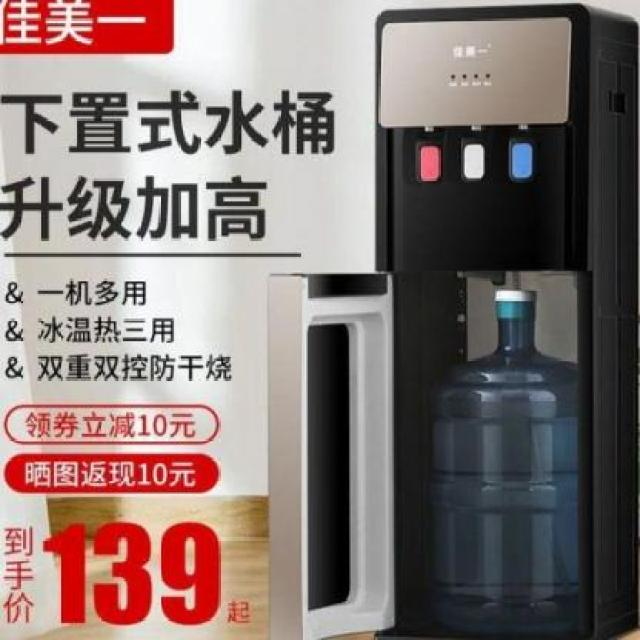coolerbottle: (425, 282, 587, 628)
